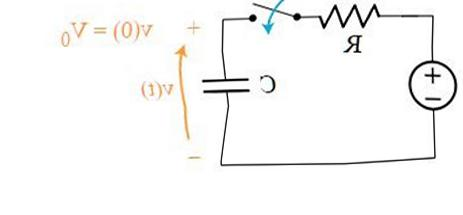Battery: (394, 52, 461, 123)
